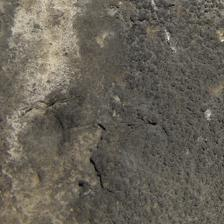Crack: (16, 50, 94, 145)
